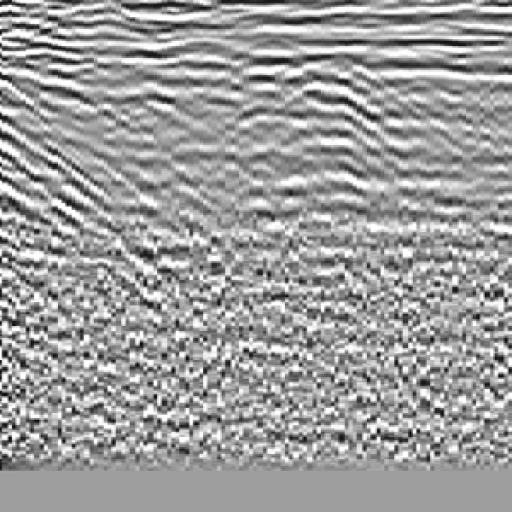metalic: (238, 38, 420, 245)
nonmetalic: (1, 56, 127, 230)
